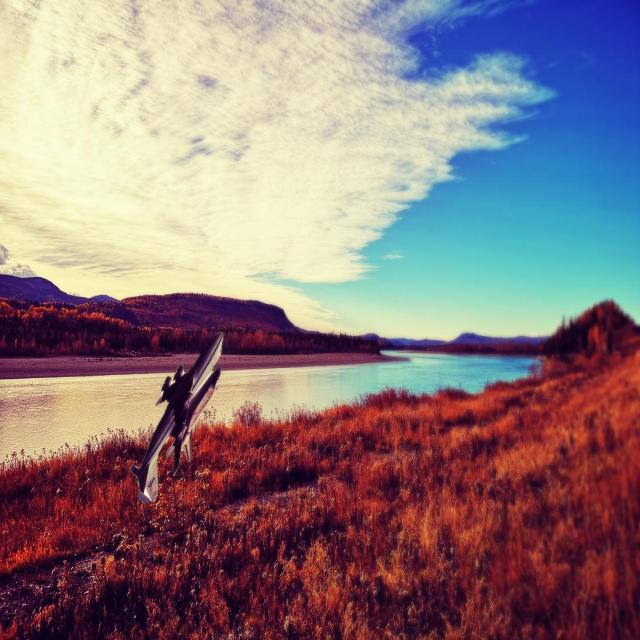airplane: (129, 330, 224, 506)
